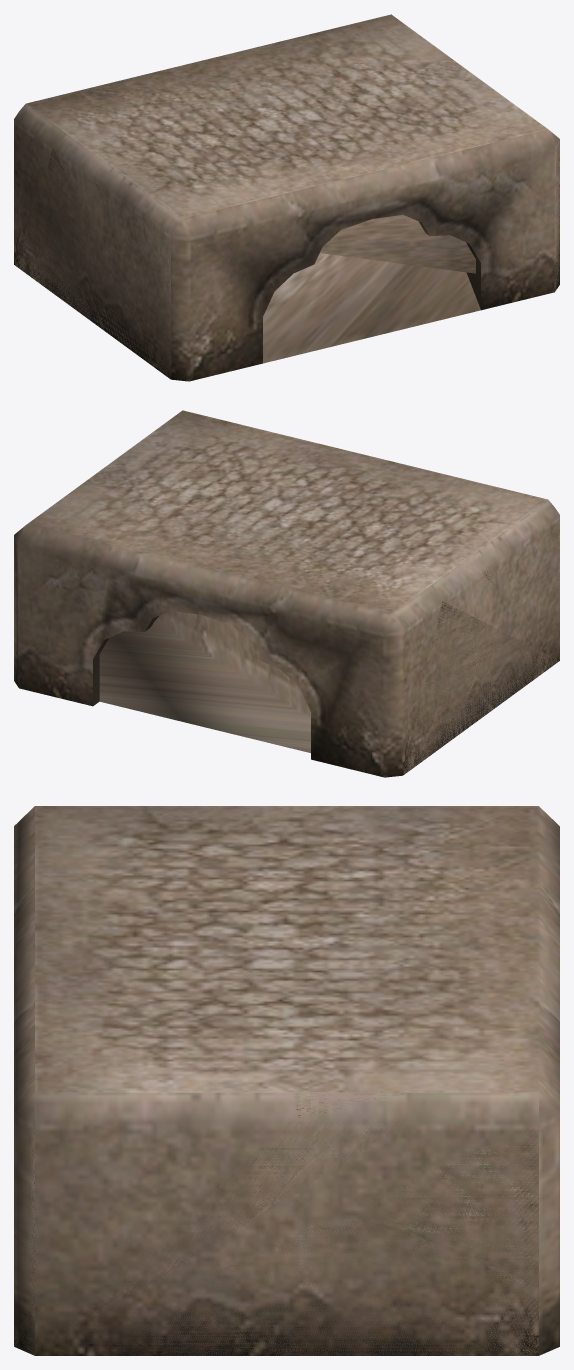
The model's file is stbr18.dae.
3 views of the same model, one above another, from view 1: azimuth 30°, elevation 25°; view 2: azimuth 150°, elevation 25°; view 3: azimuth 270°, elevation 25° (orthographic). The views are drawn at different scales.
Visible parts, largest first — view 1: base, col1; view 2: base, col2, col1, col3; view 3: base, col1, col2.
Boxes of the visible parts, x1,y1,x2,y2 form: base: [14, 14, 559, 381]; col1: [15, 148, 559, 378]; base: [14, 410, 559, 777]; col2: [99, 611, 310, 752]; col1: [403, 515, 559, 775]; col3: [99, 611, 310, 747]; base: [14, 806, 559, 1355]; col1: [14, 1122, 538, 1355]; col2: [39, 1092, 410, 1352].
Bounding box in the file's own units: 5.05 × 3.83 × 1.97.
Materials: 1 (1 with a texture image).
